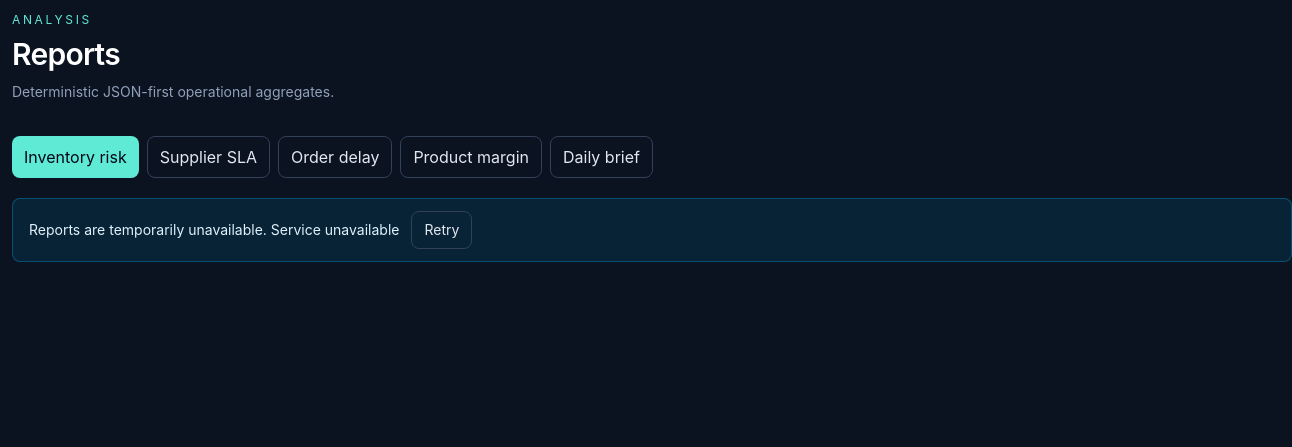
Reports page availability › does not display an empty report as valid data after a failed request, and retries safely
The image size is (1292, 447).
Expected: the text "Reports are temporarily unavailable. Service unavailable" is shown, [29, 221, 400, 238]
Click the button "Retry" at (442, 230), box [412, 211, 472, 249]
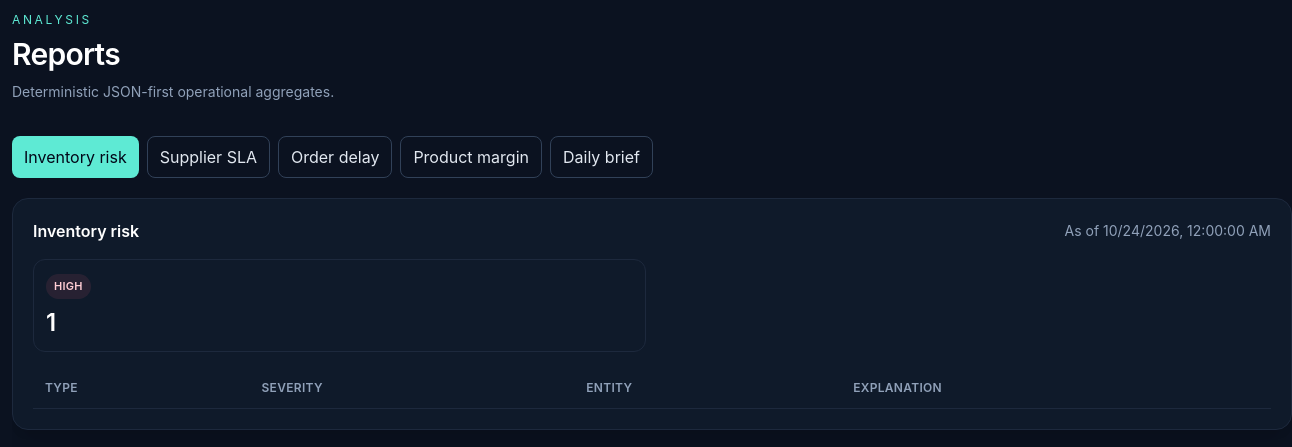
Expected: the element named "Top inventory risks table" is shown, [33, 368, 1271, 408]
